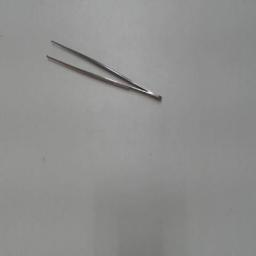Gillies Toothed Dissector: (46, 33, 164, 105)
